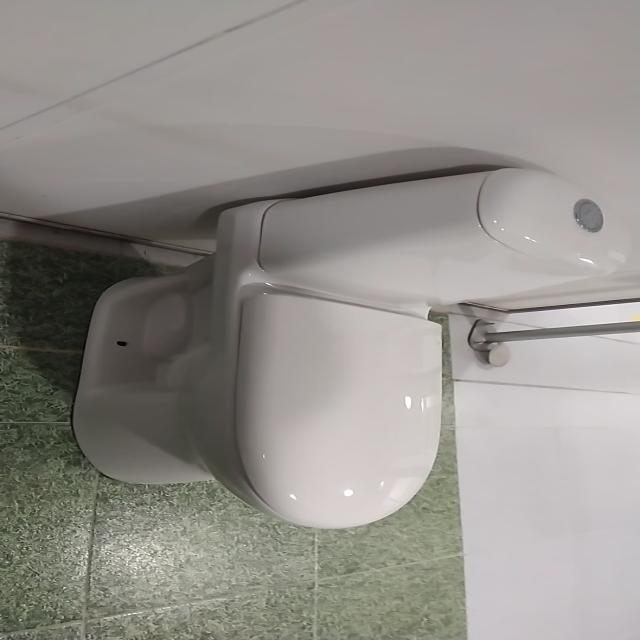toilet: (62, 160, 625, 537)
